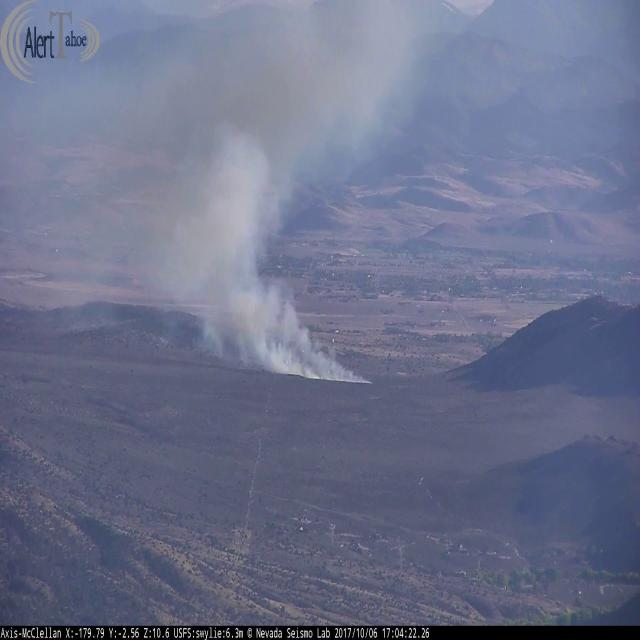smoke: (144, 6, 410, 402)
